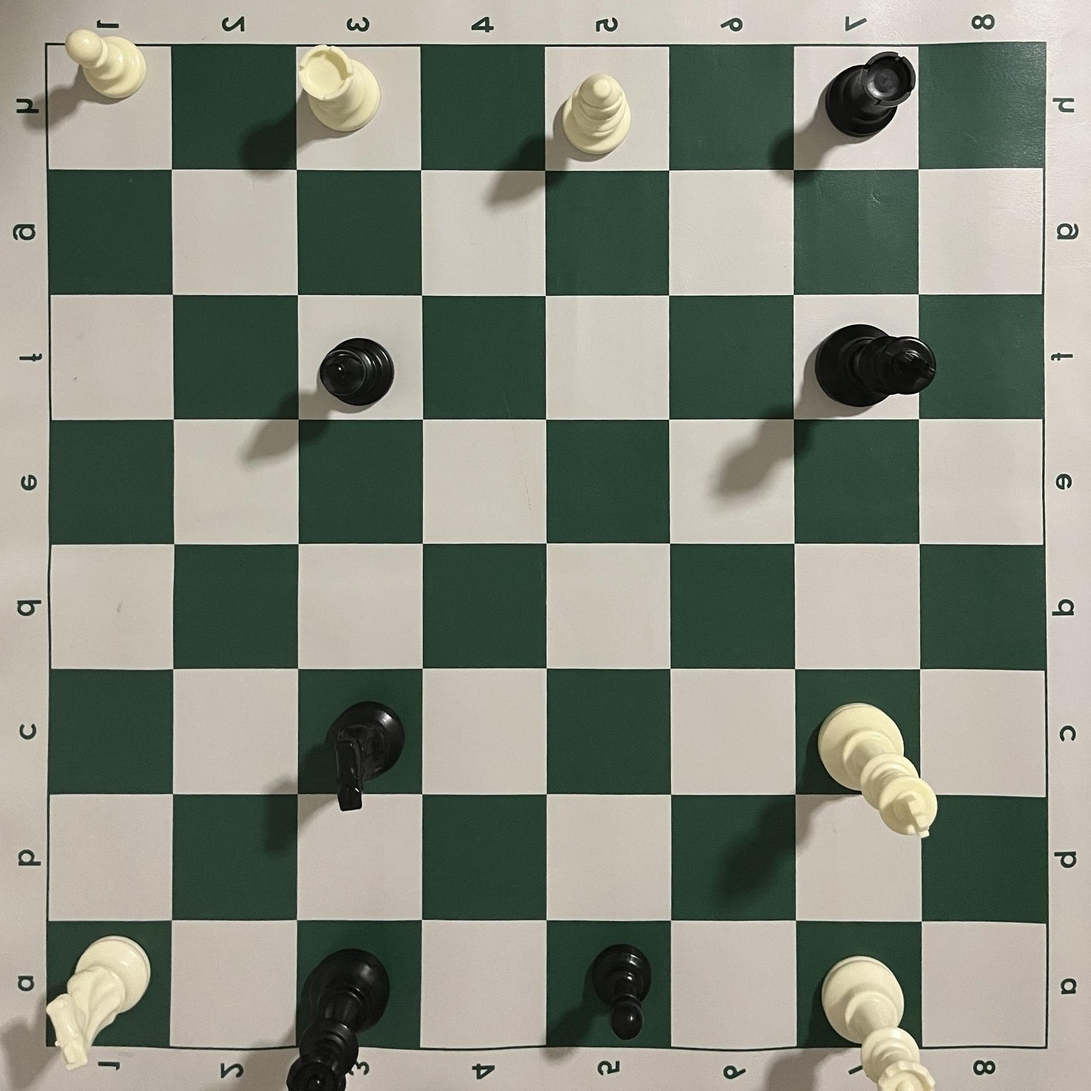black_bishop: (318, 337, 395, 407)
black_king: (815, 323, 937, 408)
black_knight: (324, 700, 405, 812)
black_pawn: (589, 944, 651, 1040)
black_queen: (285, 948, 390, 1091)
black_rook: (824, 51, 915, 139)
white_bishop: (561, 73, 631, 155)
white_king: (816, 702, 938, 839)
white_knight: (45, 934, 151, 1070)
white_pawn: (64, 28, 147, 99)
white_queen: (821, 955, 937, 1091)
white_rook: (298, 45, 380, 133)
